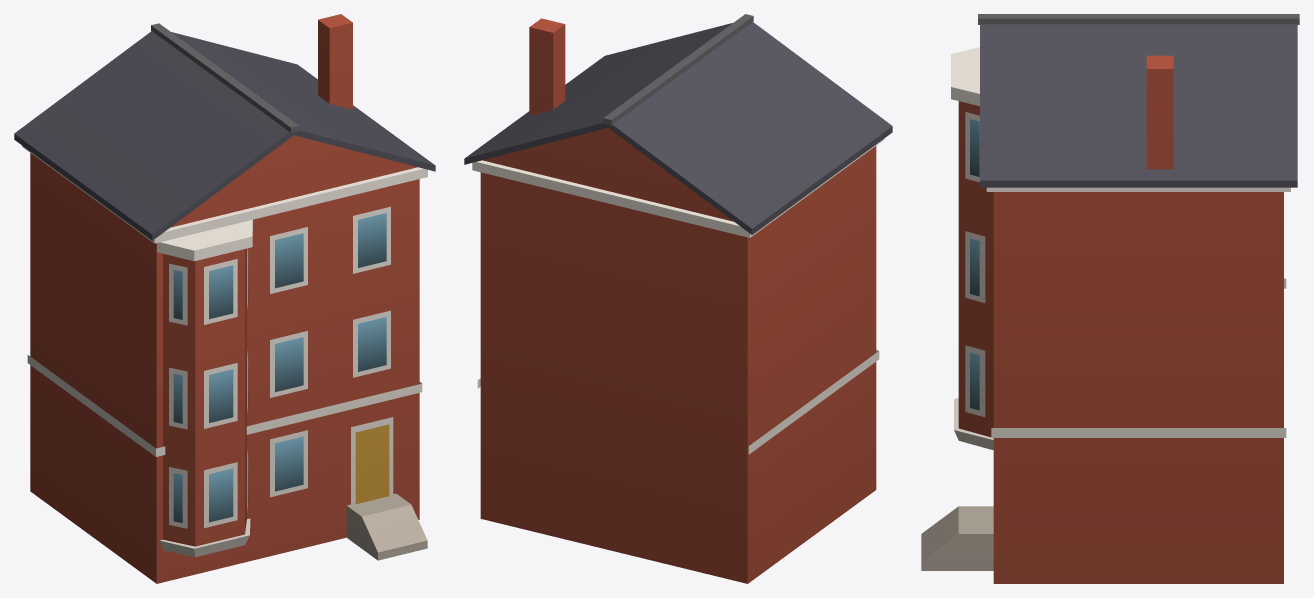
The model's file is lane_w12_far.glb.
3 views of the same model, side by side, from view 1: azimuth 30°, elevation 25°; view 2: azimuth 150°, elevation 25°; view 3: azimuth 270°, elevation 25° (orthographic). The views are drawn at different scales.
Parts seen in each view (by area): view 1: lane_w12_far; view 2: lane_w12_far; view 3: lane_w12_far.
Boxes of the visible parts, bbox=[...] form: lane_w12_far: bbox=[14, 14, 435, 583]; lane_w12_far: bbox=[464, 14, 892, 583]; lane_w12_far: bbox=[921, 14, 1299, 583].
Bounding box in the file's own units: 9.7 × 14.68 × 9.76.
Materials: 1 (1 with a texture image).
